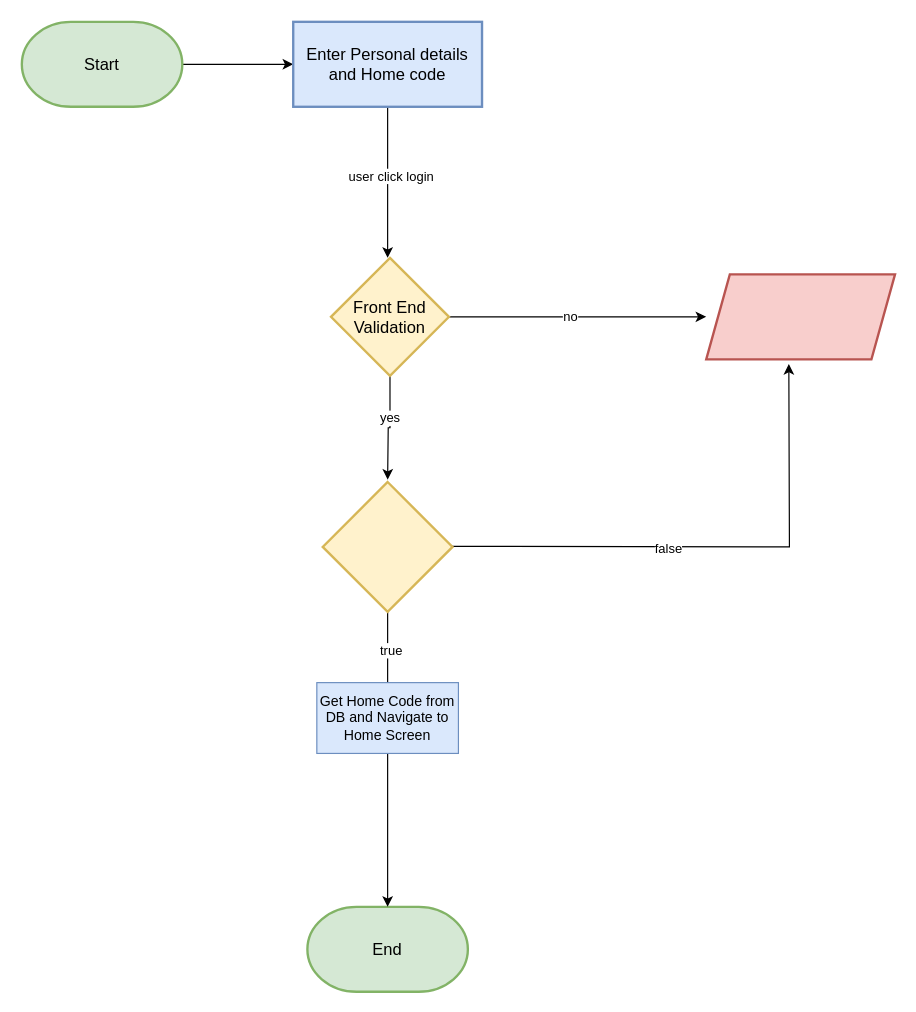
This 916x1012 diagram has some shape labels left out. The shapes that lost their labels are listed below. From the top down, each one's centre as x and y in pixels, then its label:
At point 800,316: "Display Error Messages".
At point 387,546: "DB validate account".
